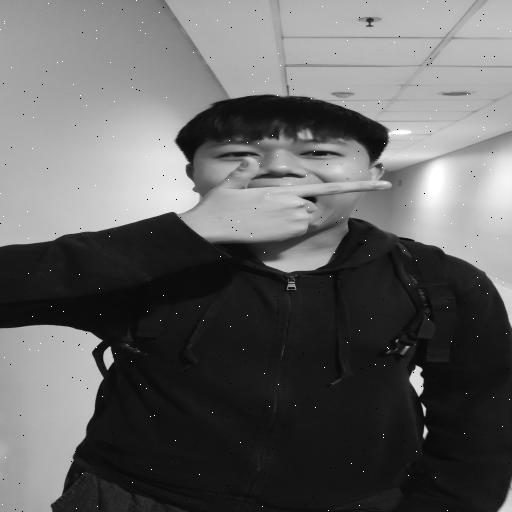next: (164, 149, 421, 251)
